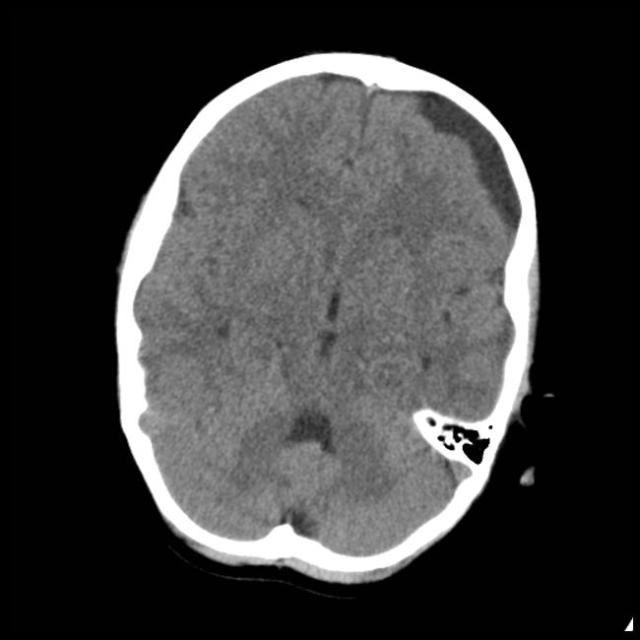lesion: (114, 54, 544, 583)
